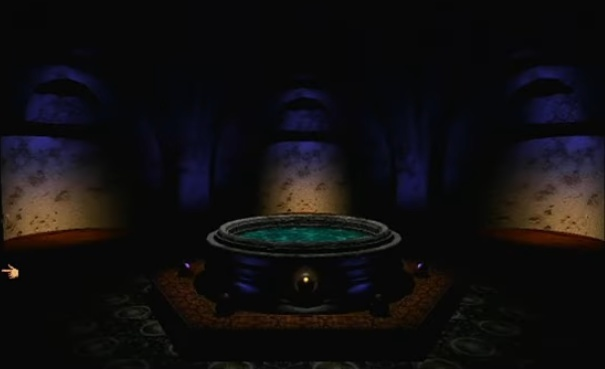Pointer: (1, 262, 21, 281)
